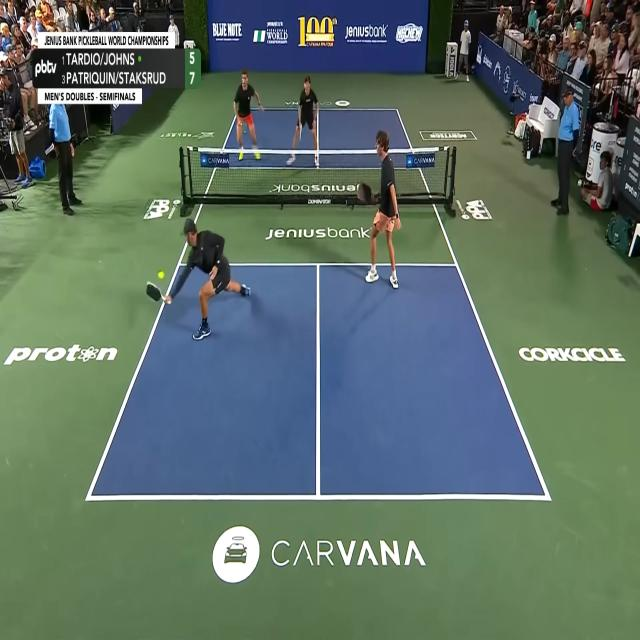ball: (158, 270, 165, 280)
